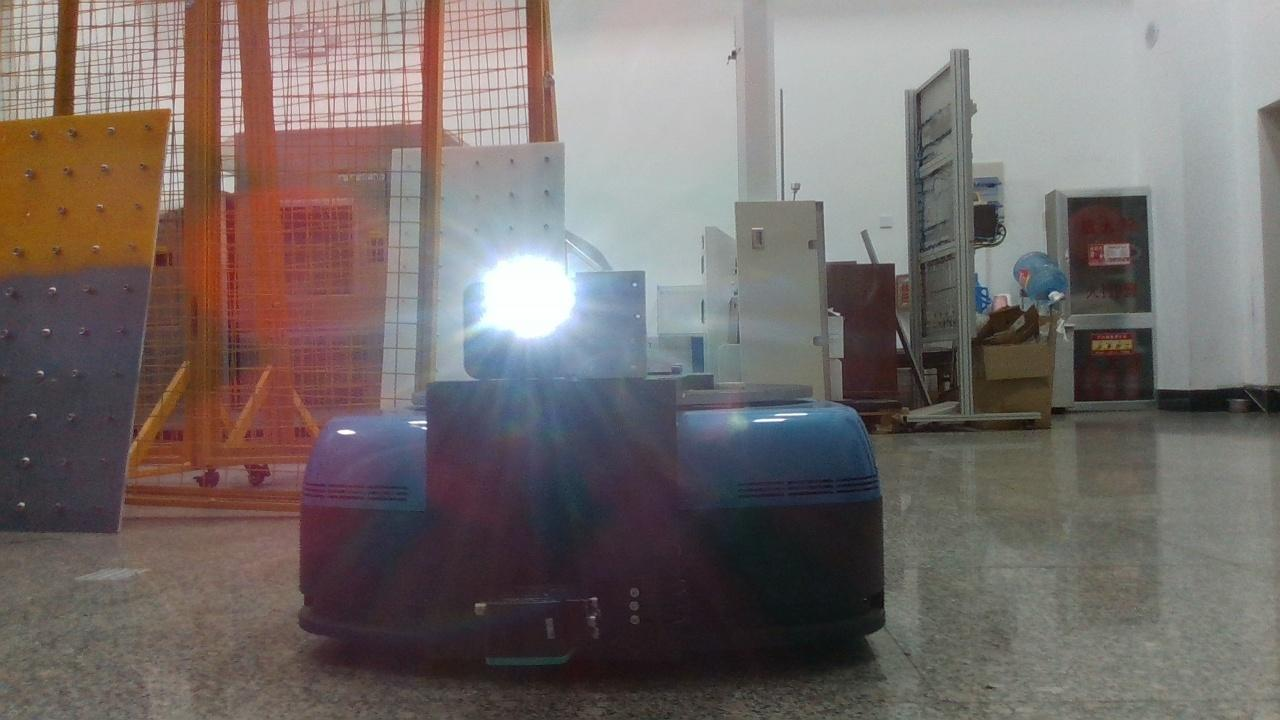AGV: (300, 373, 885, 665)
